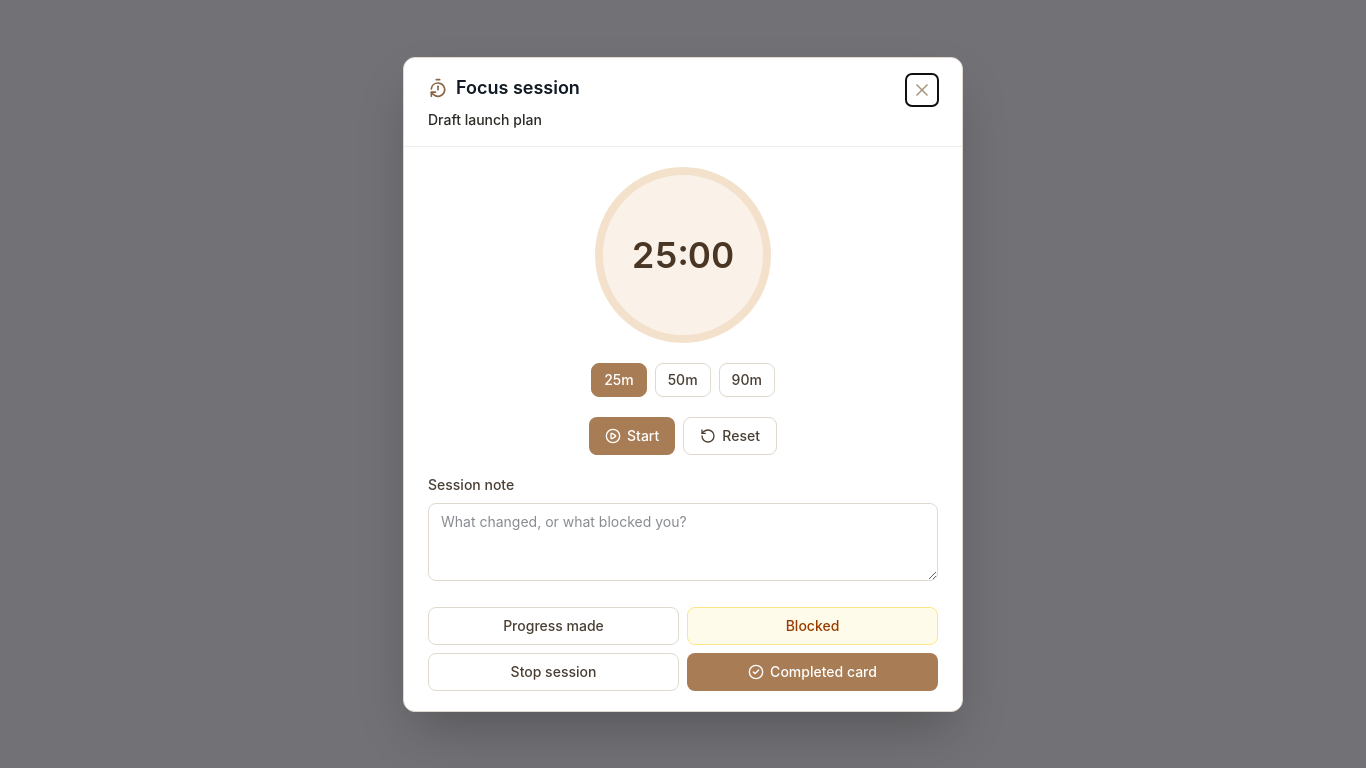
Test: FocusMode › pauses and resumes an active session
What coordinates should you click on to do the following:
click the button "Start"
I would click on:
 (632, 436)
Its box is left=589, top=416, right=675, bottom=454.
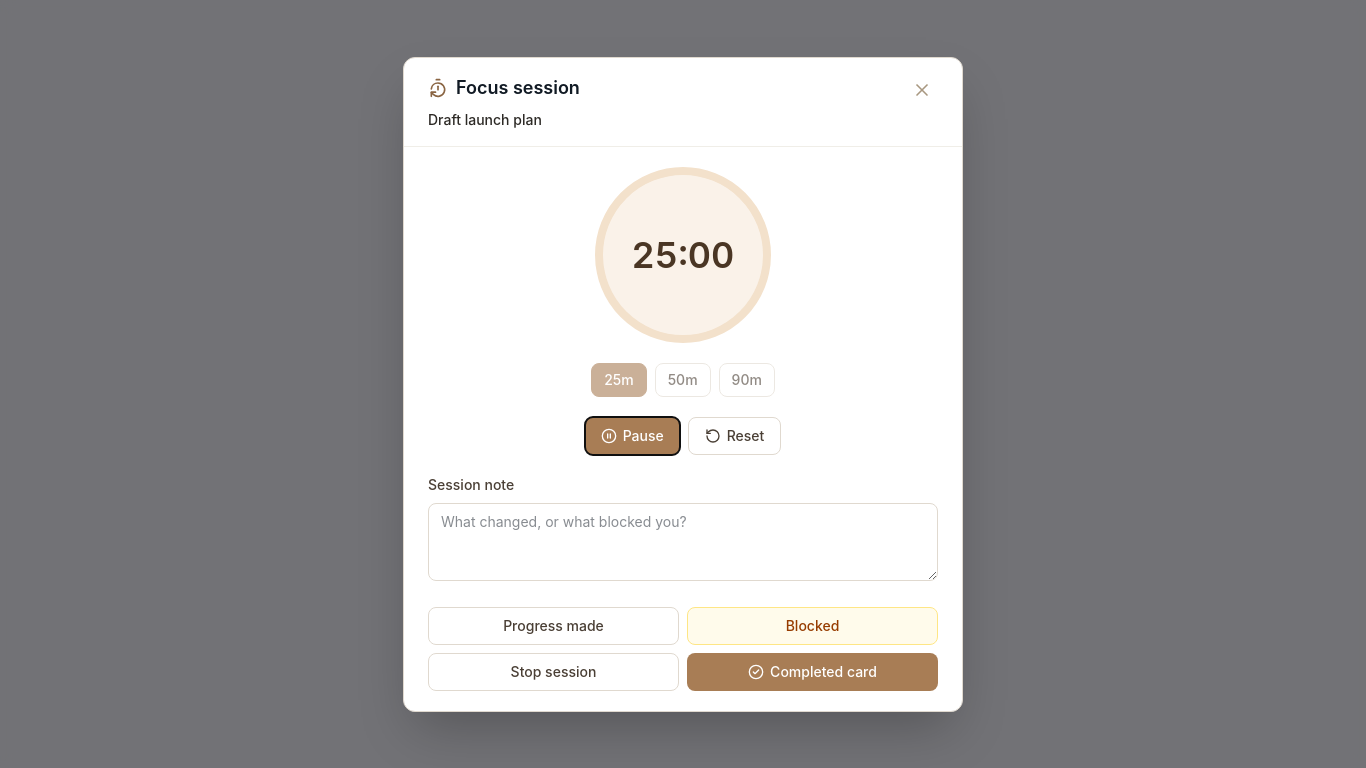
Result: the button "Pause" is shown
What coordinates should you click on to do the following:
click the button "Pause"
I would click on:
 (632, 436)
Its box is left=585, top=416, right=680, bottom=454.
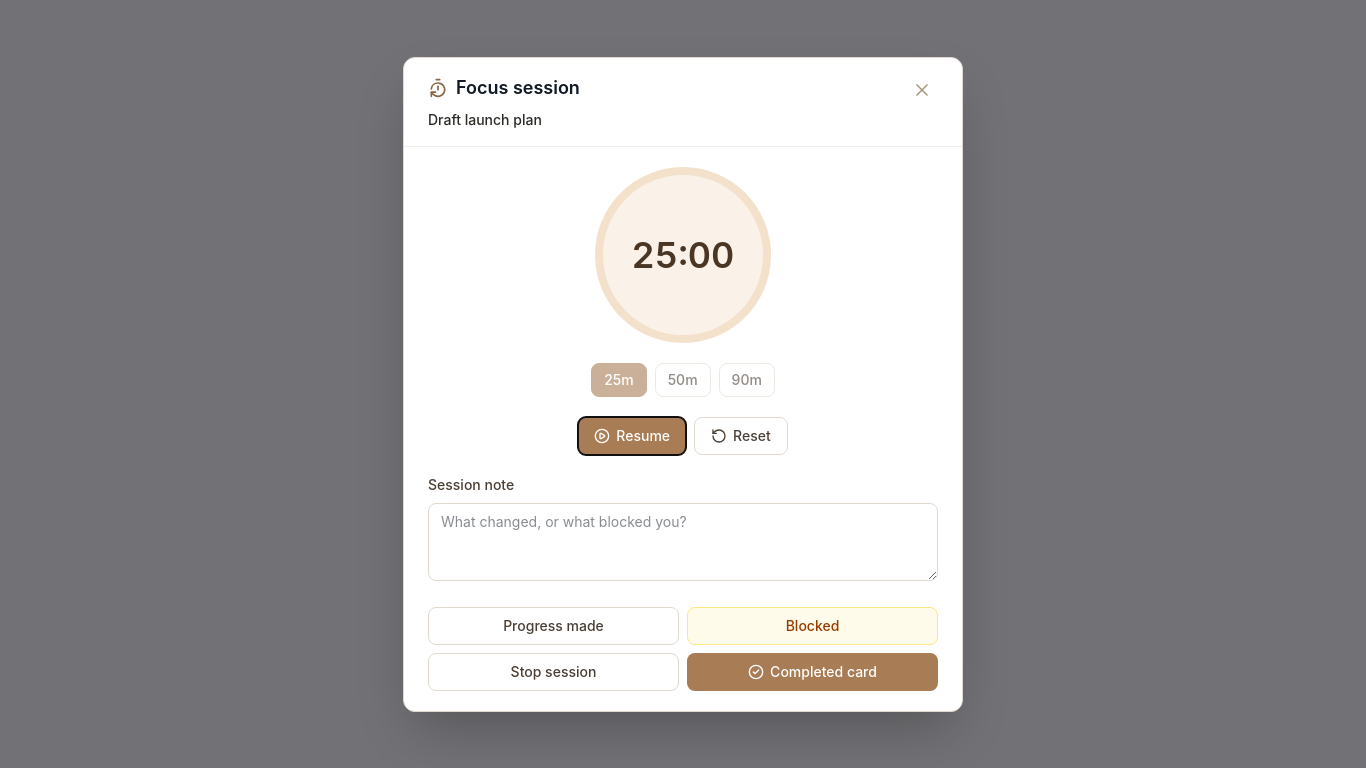
Result: the button "Resume" is shown at left=578, top=416, right=686, bottom=454
